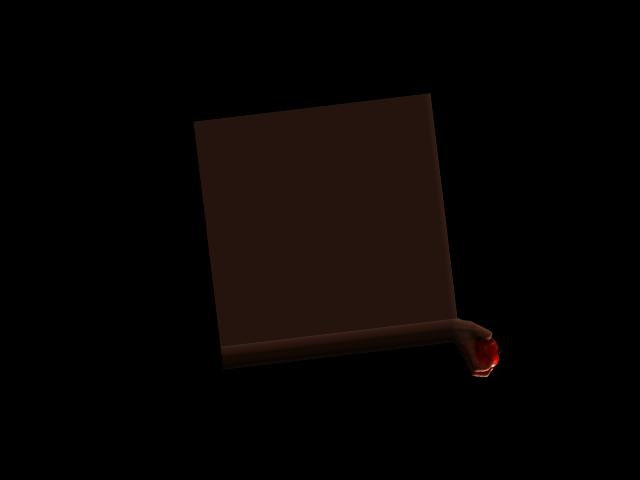tomato: (475, 336, 503, 368)
